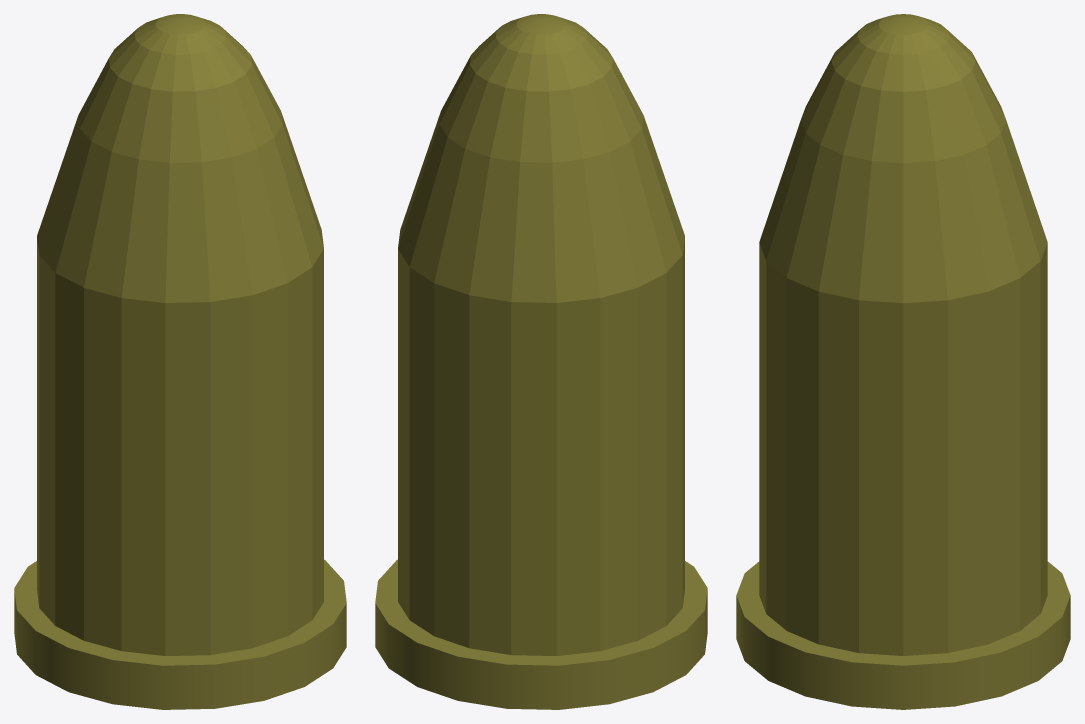
The model's file is bala.fbx.
The picture shows the model from 3 angles, left to right: view 1: azimuth 30°, elevation 25°; view 2: azimuth 150°, elevation 25°; view 3: azimuth 270°, elevation 25°; orthographic projection.
Parts seen in each view (by area): view 1: pCylinder1; view 2: pCylinder1; view 3: pCylinder1.
Boxes of the visible parts, x1=… form: pCylinder1: x1=14, y1=14, x2=346, y2=709; pCylinder1: x1=375, y1=14, x2=707, y2=709; pCylinder1: x1=736, y1=14, x2=1070, y2=709.
Size of the model in its own units: 2 by 4.1 by 2.
